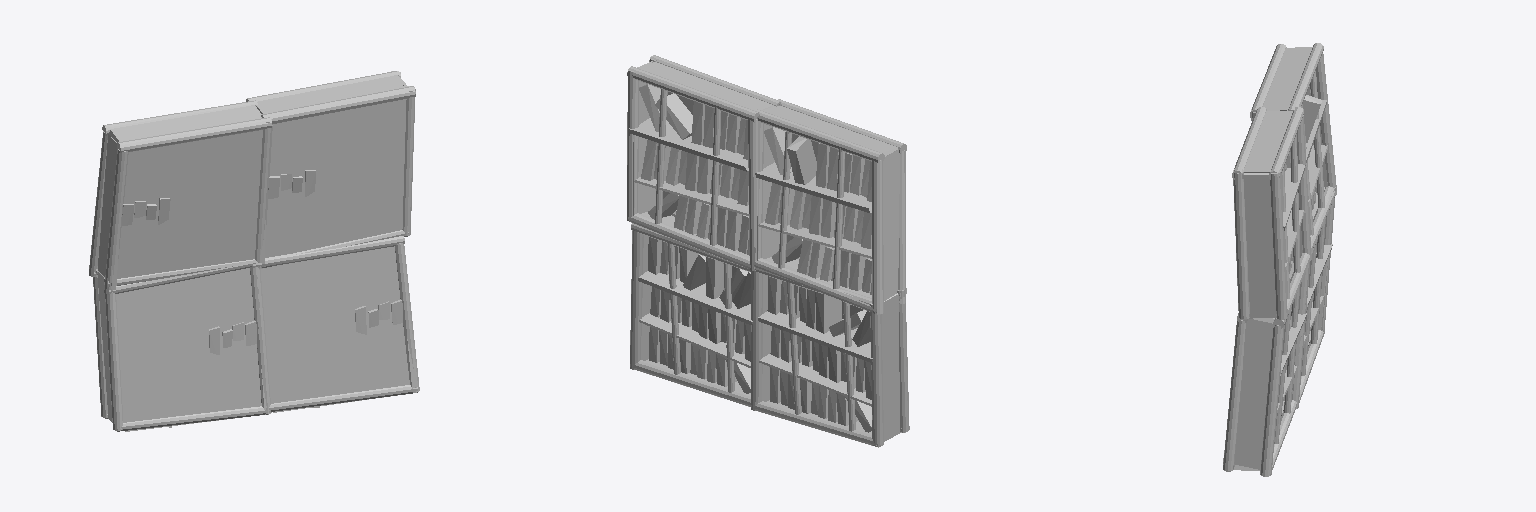
3 renders of one model, left to right at view 1: azimuth 30°, elevation 25°; view 2: azimuth 150°, elevation 25°; view 3: azimuth 270°, elevation 25°, orthographic.
Visible parts, largest first — view 1: group[number redacted], group[number redacted], group[number redacted], group[number redacted], group[number redacted], group[number redacted], group[number redacted], group[number redacted], group[number redacted], group[number redacted], group[number redacted], group[number redacted] (+4 smaller); view 2: group[number redacted], group[number redacted], group[number redacted], group[number redacted], group[number redacted], group[number redacted], group[number redacted], group[number redacted], group[number redacted], group[number redacted], group[number redacted], group[number redacted] (+14 smaller); view 3: group[number redacted], group[number redacted], group[number redacted], group[number redacted], group[number redacted], group[number redacted], group[number redacted], group[number redacted], group[number redacted], group[number redacted], group[number redacted], group[number redacted].
Boxes of the visible parts, box(x1,y1,x2,y2) form: group[number redacted]: box(246, 71, 415, 268); group[number redacted]: box(93, 260, 271, 431); group[number redacted]: box(261, 246, 409, 403); group[number redacted]: box(117, 130, 262, 278); group[number redacted]: box(109, 105, 261, 142); group[number redacted]: box(117, 117, 272, 152); group[number redacted]: box(104, 149, 128, 294); group[number redacted]: box(98, 134, 119, 289); group[number redacted]: box(266, 385, 417, 411); group[number redacted]: box(395, 243, 419, 392); group[number redacted]: box(253, 236, 404, 267); group[number redacted]: box(255, 119, 271, 262); group[number redacted]: box(627, 55, 780, 270); group[number redacted]: box(751, 257, 909, 447); group[number redacted]: box(883, 149, 899, 300); group[number redacted]: box(872, 160, 883, 313); group[number redacted]: box(638, 271, 752, 324); group[number redacted]: box(755, 109, 884, 163); group[number redacted]: box(630, 230, 643, 369); group[number redacted]: box(763, 106, 897, 156); group[number redacted]: box(755, 162, 871, 212); group[number redacted]: box(630, 360, 750, 406); group[number redacted]: box(753, 258, 880, 314); group[number redacted]: box(639, 313, 750, 367); group[number redacted]: box(1232, 107, 1311, 320); group[number redacted]: box(1223, 319, 1273, 469); group[number redacted]: box(1292, 186, 1335, 408); group[number redacted]: box(1260, 325, 1284, 476); group[number redacted]: box(1263, 47, 1312, 110); group[number redacted]: box(1223, 320, 1245, 470); group[number redacted]: box(1316, 53, 1336, 194); group[number redacted]: box(1288, 43, 1323, 110); group[number redacted]: box(1250, 44, 1286, 119); group[number redacted]: box(1310, 71, 1324, 207); group[number redacted]: box(1284, 287, 1299, 413); group[number redacted]: box(1274, 307, 1291, 443).
Bounding box in the file's own units: 4.84 × 4.9 × 1.66.